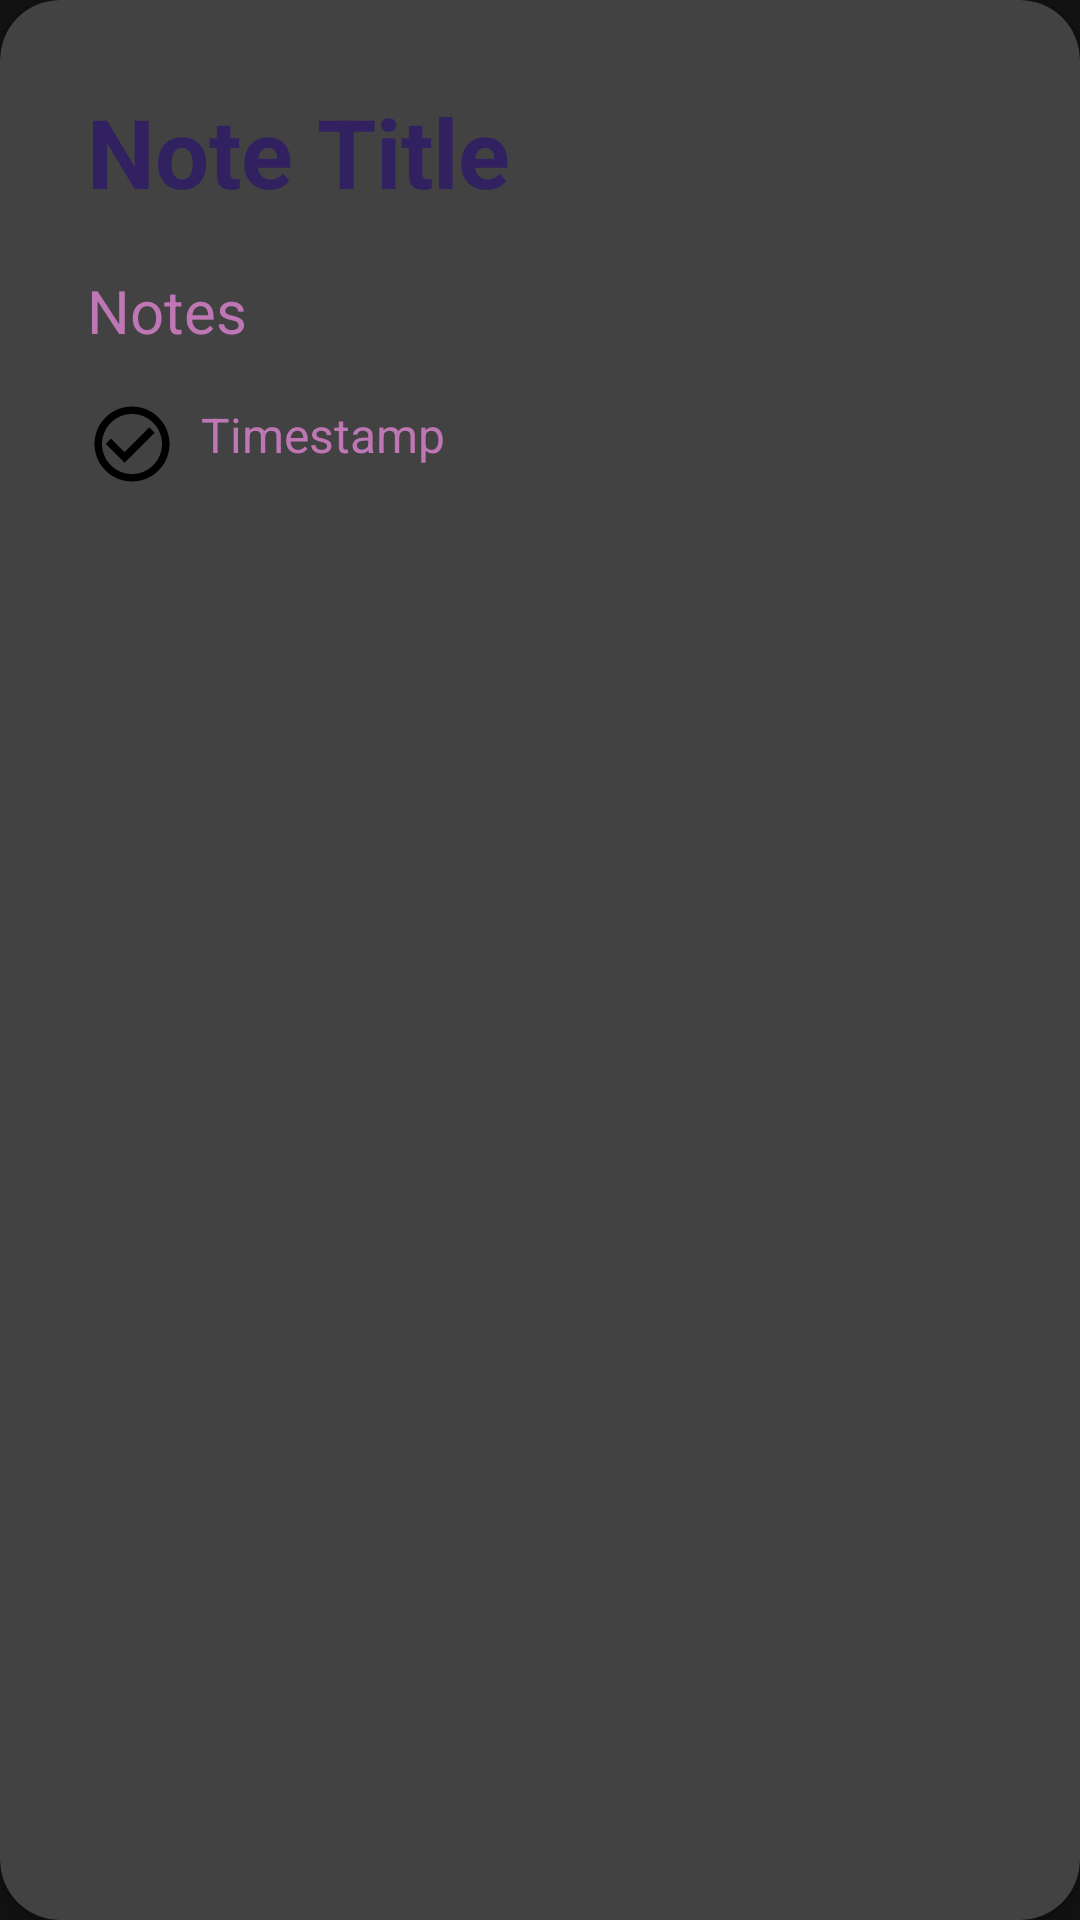

Icon bounding boxes for this 1080×1920 phone screenshot, format {"x1": x1, "y1": y1, "x2": x2, "y2": y2}:
check: {"x1": 94, "y1": 406, "x2": 170, "y2": 482}
